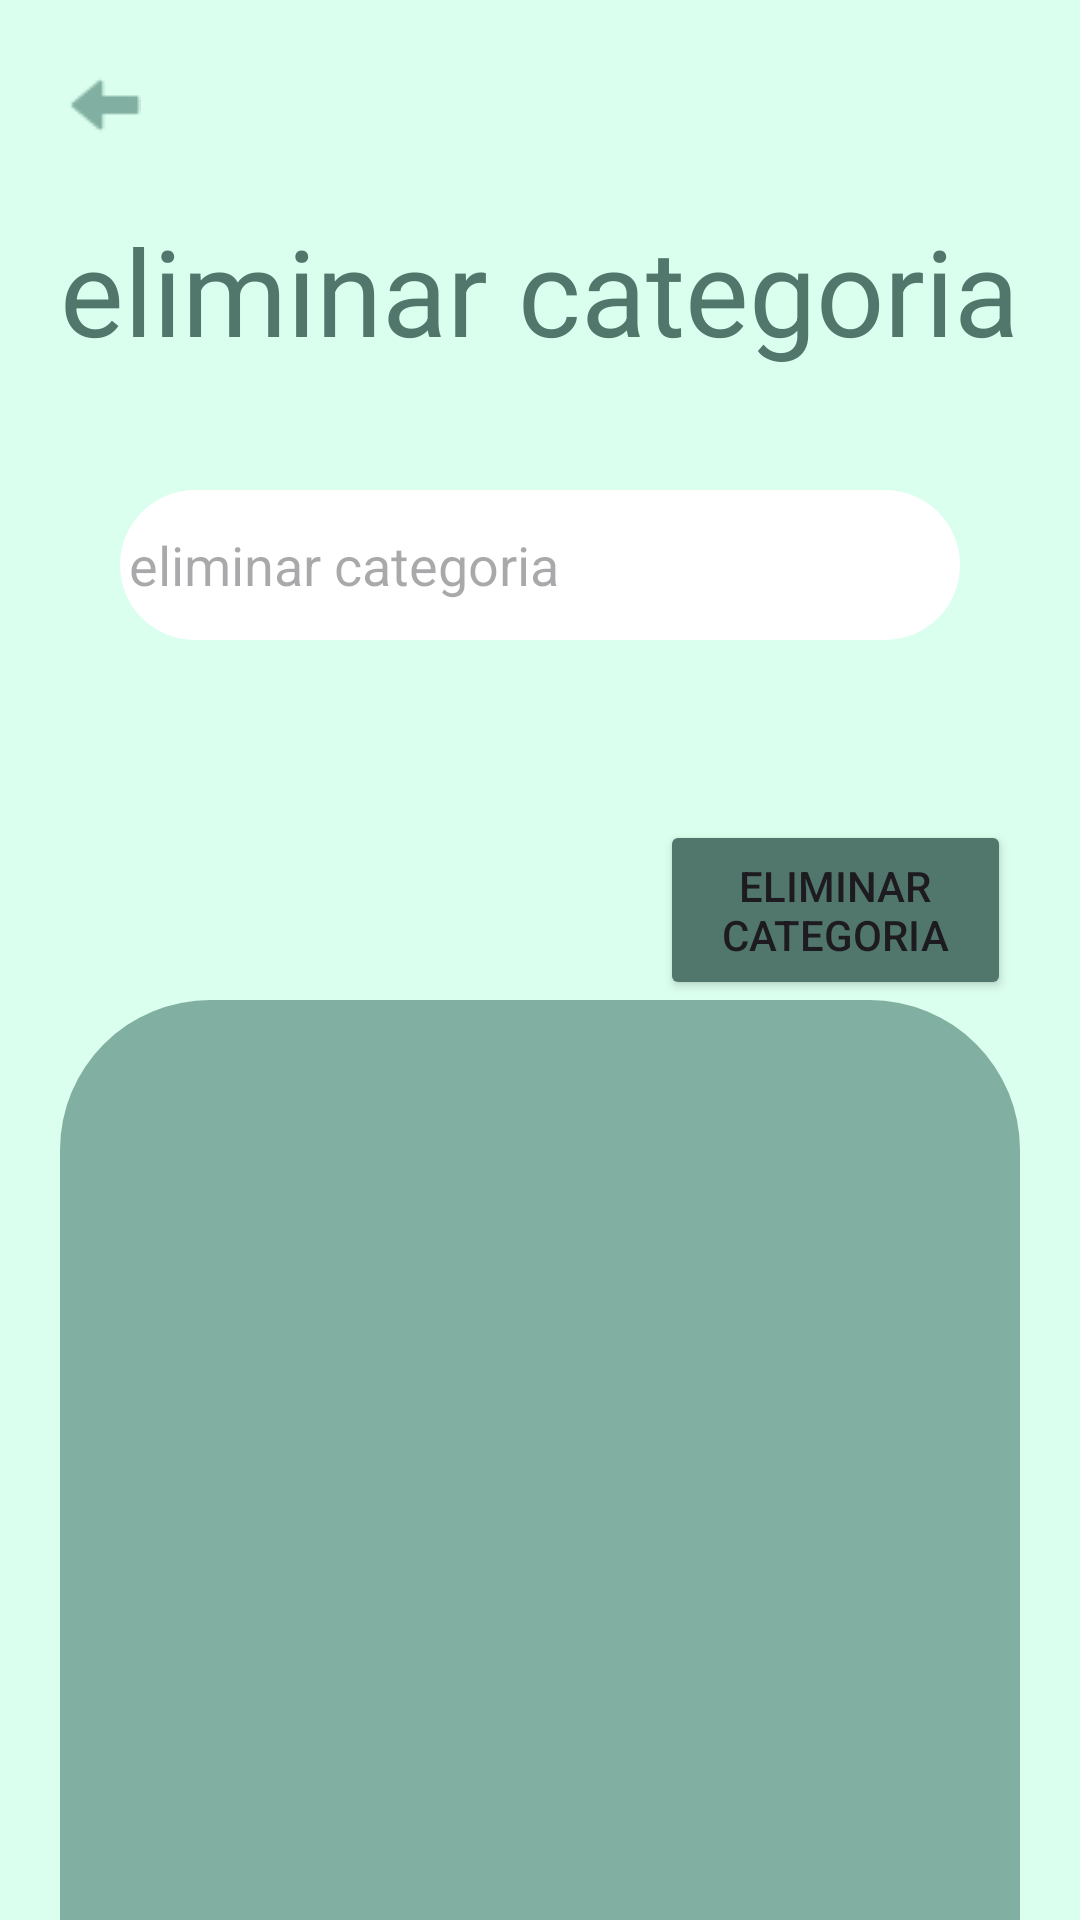

Named icons in this screenshot (1080×1920) and their centers, (x,y):
atras: (105,105)
